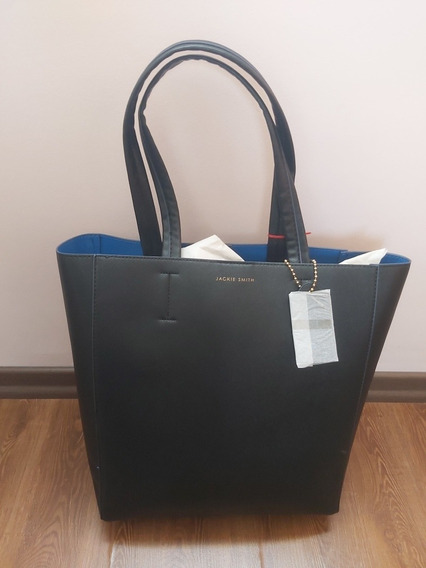cartera: (56, 39, 412, 524)
